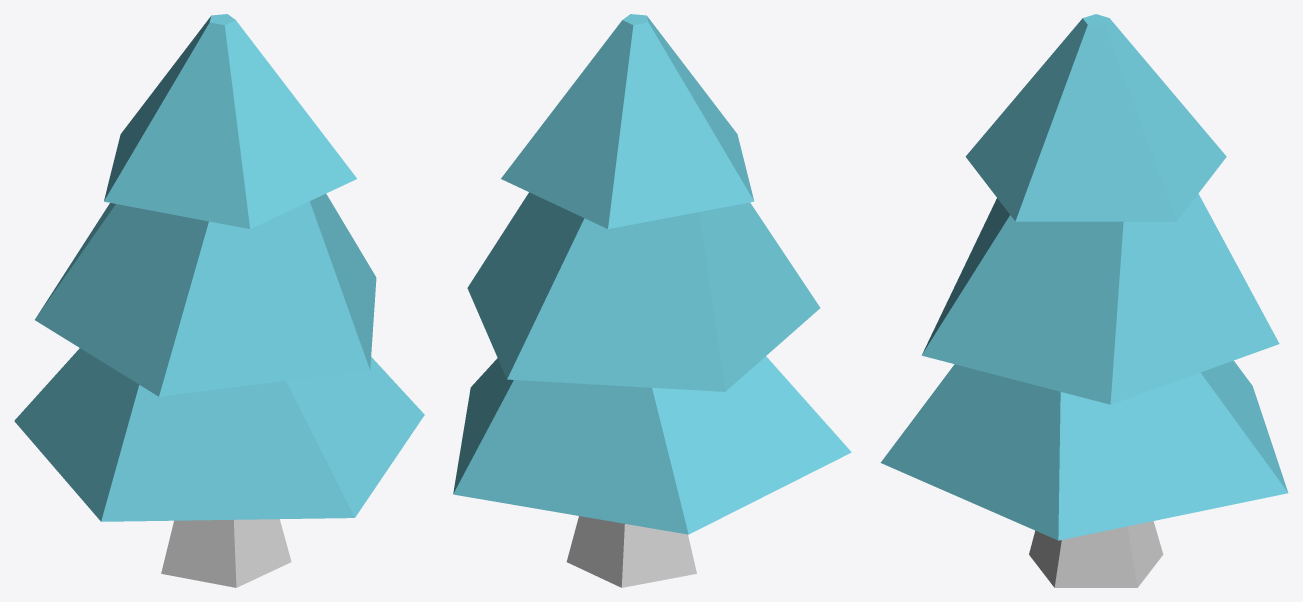
The model's file is blueTree.fbx.
3 views of the same model, side by side, from view 1: azimuth 30°, elevation 25°; view 2: azimuth 150°, elevation 25°; view 3: azimuth 270°, elevation 25° (orthographic).
Parts seen in each view (by area): view 1: Cylinder.118, Cylinder.000; view 2: Cylinder.118, Cylinder.000; view 3: Cylinder.118, Cylinder.000.
Part boxes in pixels (left/top/right/bottom): Cylinder.118: left=14, top=14, right=424, bottom=521; Cylinder.000: left=161, top=519, right=291, bottom=587; Cylinder.118: left=453, top=14, right=851, bottom=534; Cylinder.000: left=566, top=516, right=696, bottom=587; Cylinder.118: left=880, top=14, right=1288, bottom=540; Cylinder.000: left=1029, top=521, right=1163, bottom=587.
Size of the model in its own units: 493 by 721 by 490.
